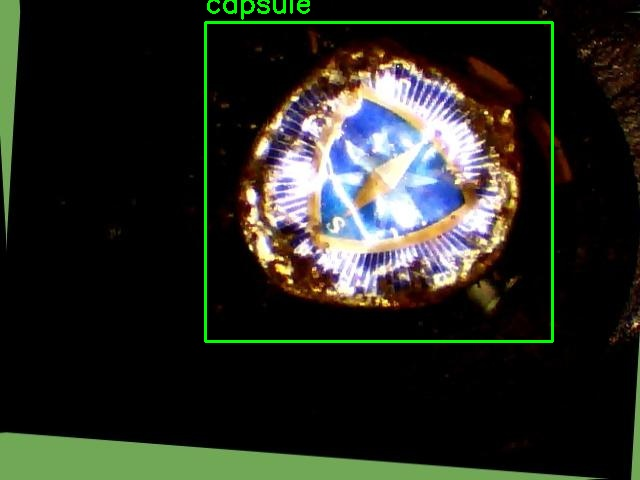capsule: (205, 22, 552, 341)
